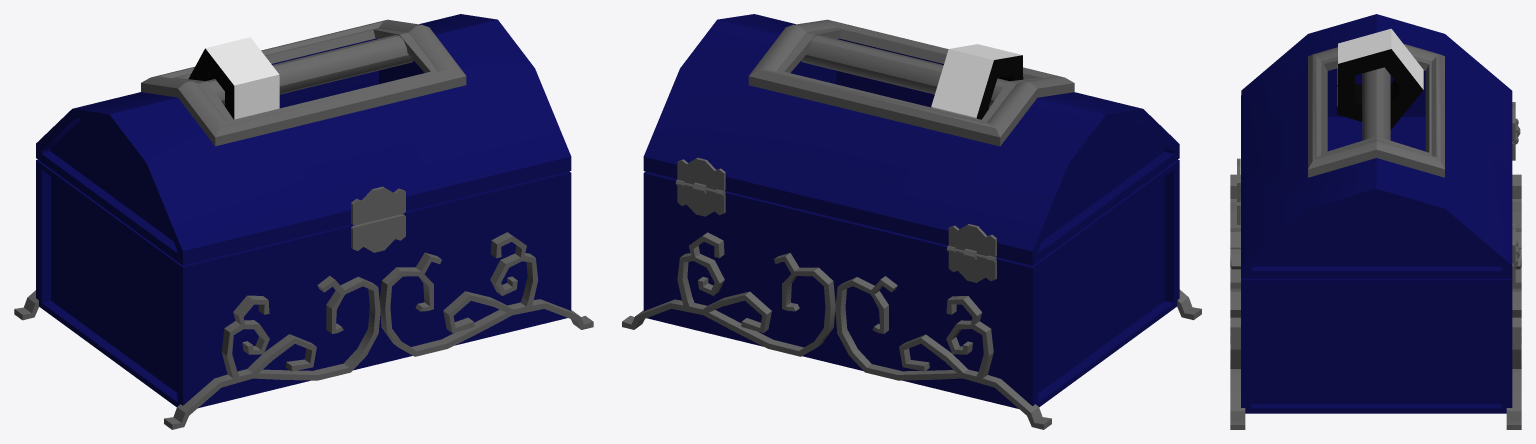
The model's file is Шкатулка.fbx.
3 renders of one model, left to right at view 1: azimuth 30°, elevation 25°; view 2: azimuth 150°, elevation 25°; view 3: azimuth 270°, elevation 25°, orthographic. The views are drawn at different scales.
Visible parts, largest first — view 1: Cube.001, Cube, Circle.003; view 2: Cube.001, Cube, Circle.003; view 3: Cube.001, Cube, Circle.003.
Part boxes in pixels (x1,y1,x2,y2): Cube.001: (36,14,571,265); Cube: (14,159,593,429); Circle.003: (188,37,279,119); Cube.001: (643,14,1179,265); Cube: (622,159,1201,429); Circle.003: (931,44,1023,119); Cube.001: (1237,14,1515,278); Cube: (1230,118,1521,429); Circle.003: (1337,28,1423,129).
Bounding box in the file's own units: 120 × 78.44 × 77.79.
